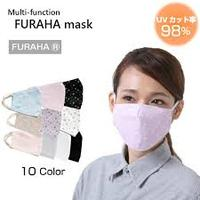flu mask: (111, 101, 173, 155)
